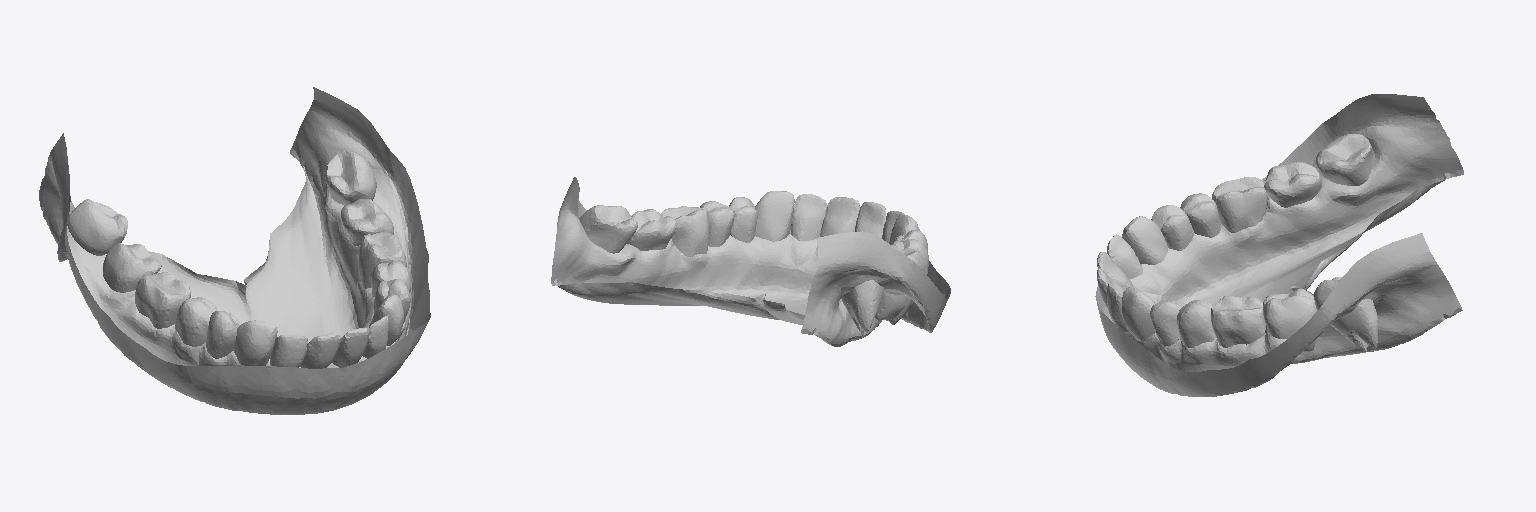
Rendered from jaws.obj.
The picture shows the model from 3 angles: view 1: azimuth 30°, elevation 25°; view 2: azimuth 150°, elevation 25°; view 3: azimuth 270°, elevation 25°; orthographic projection.
Parts seen in each view (by area): view 1: set1 set2 tweakSet2; view 2: set1 set2 tweakSet2; view 3: set1 set2 tweakSet2.
Part boxes in pixels (bbox=[...]): set1 set2 tweakSet2: bbox=[39, 87, 430, 414]; set1 set2 tweakSet2: bbox=[551, 177, 950, 346]; set1 set2 tweakSet2: bbox=[1095, 94, 1463, 396].
Bounding box in the file's own units: 0.0693 × 0.0388 × 0.0648.